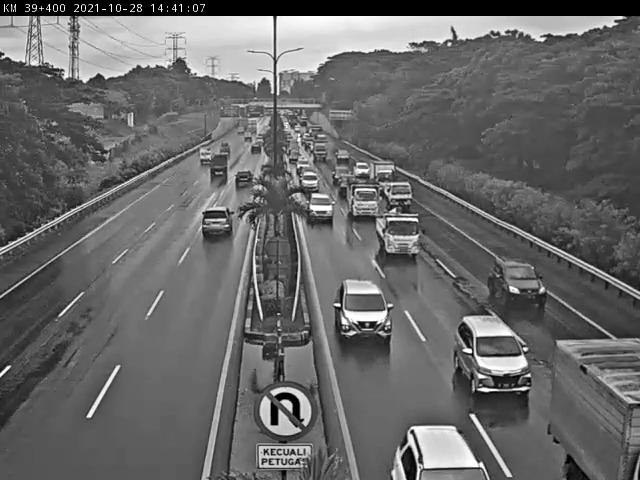car: (452, 316, 534, 396), (334, 278, 393, 343), (485, 255, 548, 307), (306, 192, 335, 224)
mid truck: (376, 213, 420, 257), (345, 181, 380, 219), (201, 206, 233, 238), (385, 179, 414, 209)
